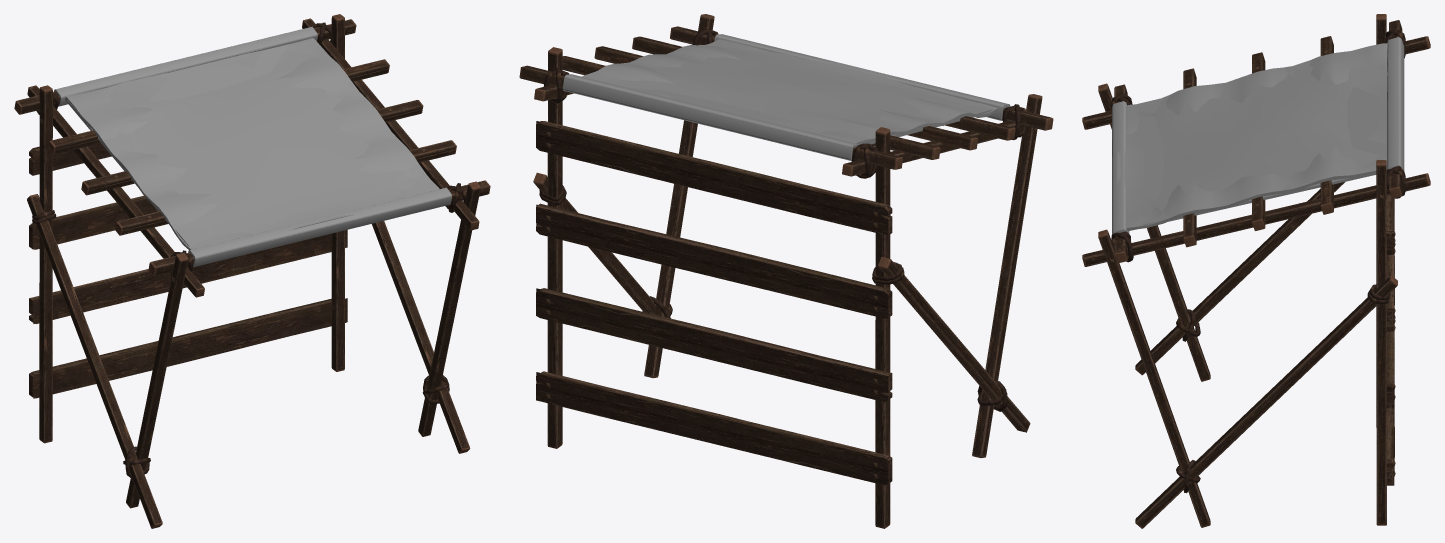
The model's file is MarketStall03b.glb.
3 views of the same model, side by side, from view 1: azimuth 30°, elevation 25°; view 2: azimuth 150°, elevation 25°; view 3: azimuth 270°, elevation 25° (orthographic). The views are drawn at different scales.
Visible parts, largest first — view 1: MarketStall03b_Cloth, MarketStall03_Frame; view 2: MarketStall03_Frame, MarketStall03b_Cloth; view 3: MarketStall03b_Cloth, MarketStall03_Frame.
Part boxes in pixels (bbox=[...]): MarketStall03b_Cloth: bbox=[54, 26, 451, 267]; MarketStall03_Frame: bbox=[14, 14, 490, 528]; MarketStall03_Frame: bbox=[519, 14, 1053, 528]; MarketStall03b_Cloth: bbox=[562, 34, 1010, 160]; MarketStall03b_Cloth: bbox=[1112, 37, 1404, 234]; MarketStall03_Frame: bbox=[1082, 14, 1430, 528].
Bounding box in the file's own units: 3.31 × 3.34 × 2.9.
Materials: 2 (1 with a texture image).
